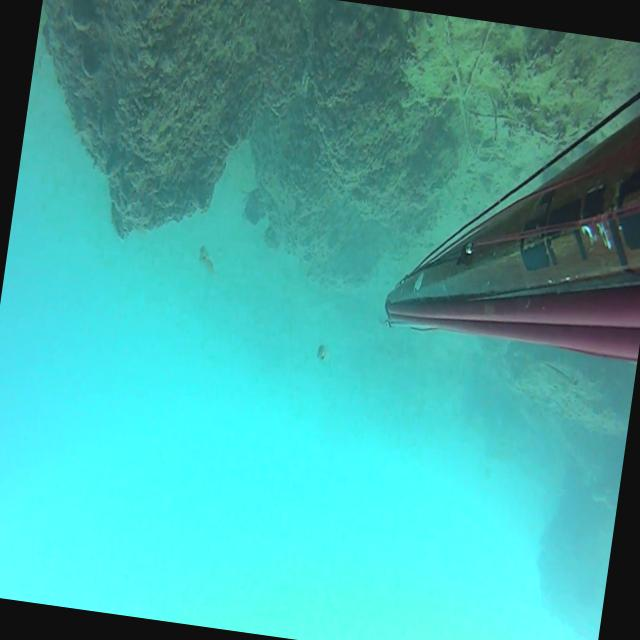Balon Baligi: (538, 355, 579, 386), (196, 245, 218, 275), (316, 342, 330, 362)
